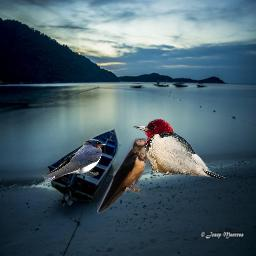Swallow: (97, 138, 149, 215), (36, 139, 106, 188)
Woodpecker: (133, 119, 227, 179)
